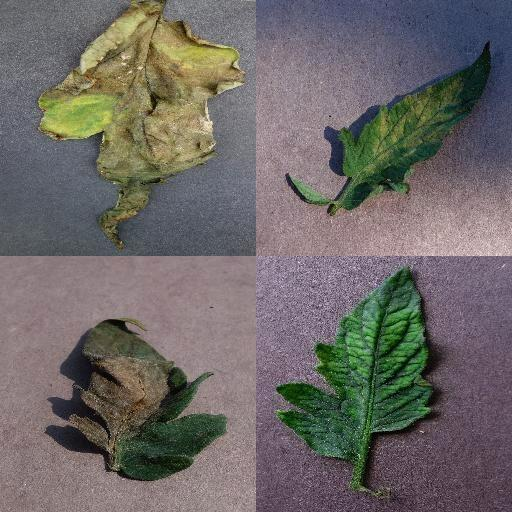Late Blight: (35, 0, 245, 250), (67, 317, 227, 483)
Leaf Mold: (341, 41, 492, 211)
Mosaic Virus: (276, 265, 436, 459)
